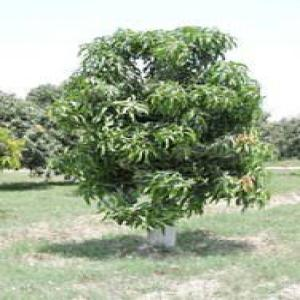Tree: (35, 24, 275, 248)
